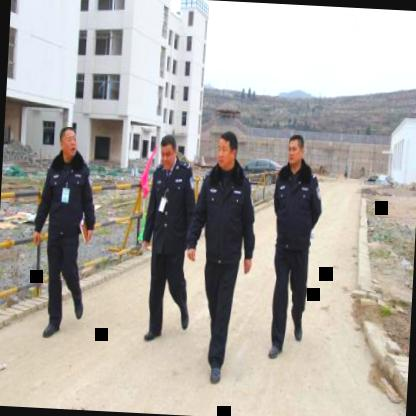head: (214, 130, 243, 173), (158, 131, 182, 176), (283, 129, 308, 171), (57, 121, 82, 159)
